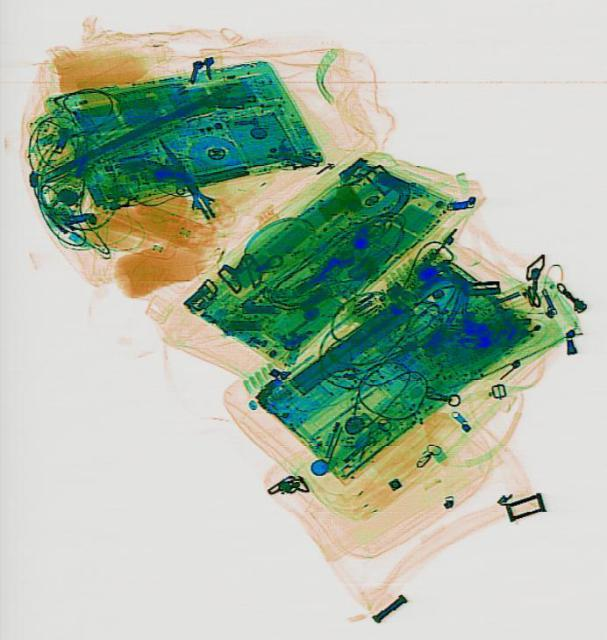Knife: (145, 130, 223, 226)
